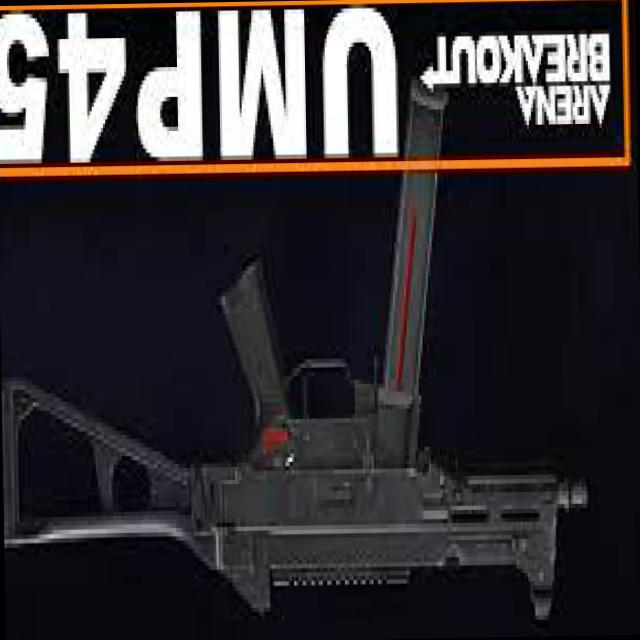Gun: (0, 85, 603, 640)
